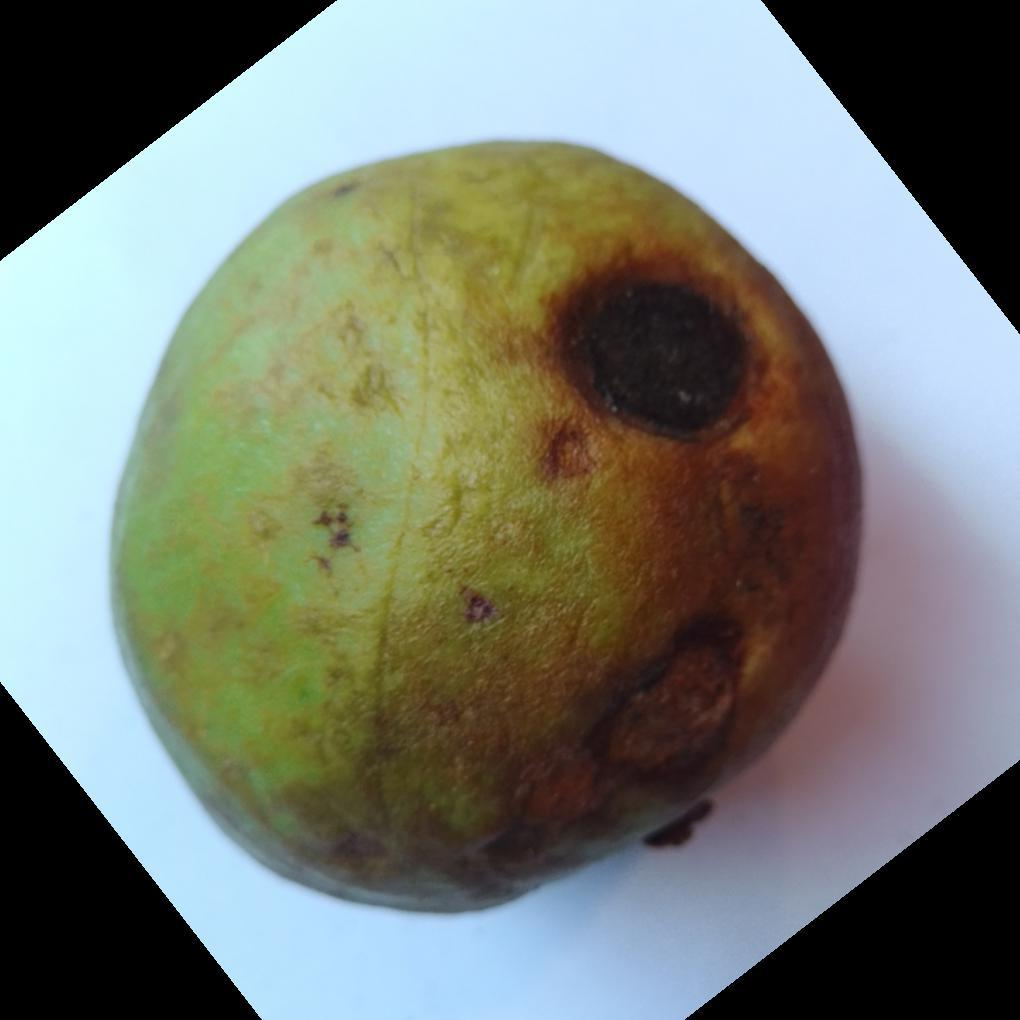FreshOrange: (106, 139, 865, 921)
